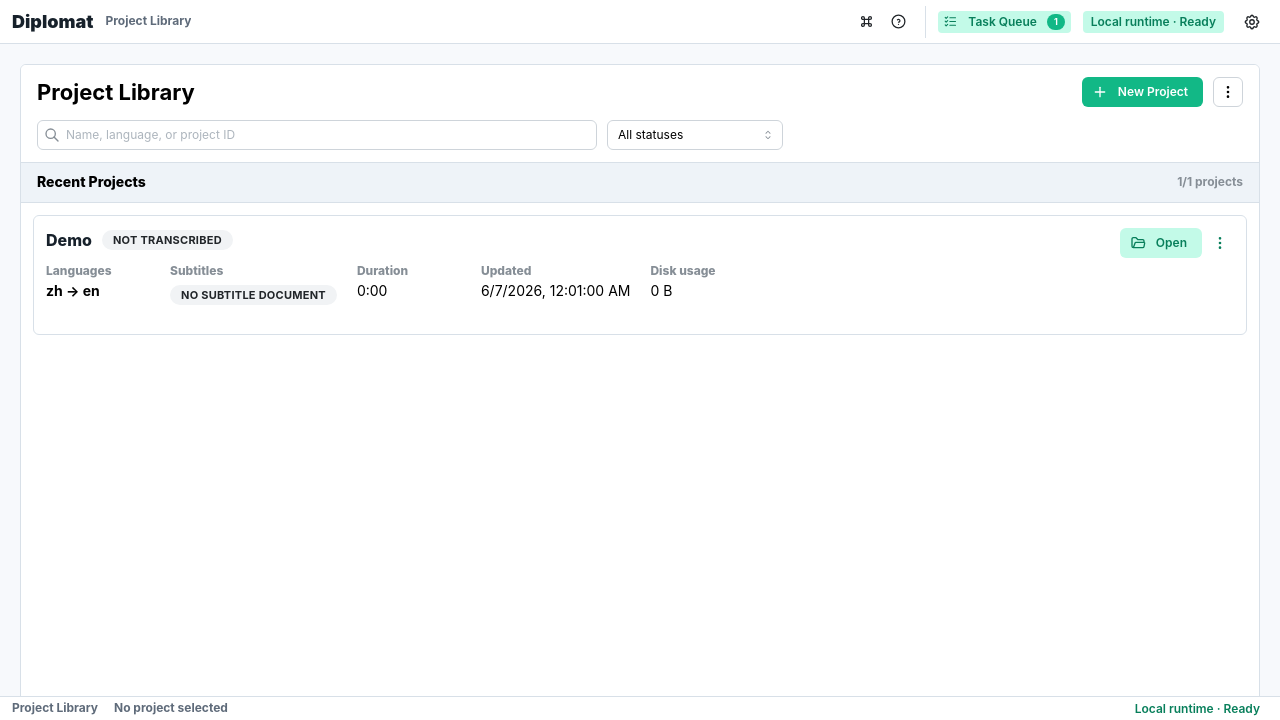
Test case: App › hides editor workspace navigation until an opened project has media
Click the button "Open" at (1161, 243), box [1120, 228, 1202, 258]
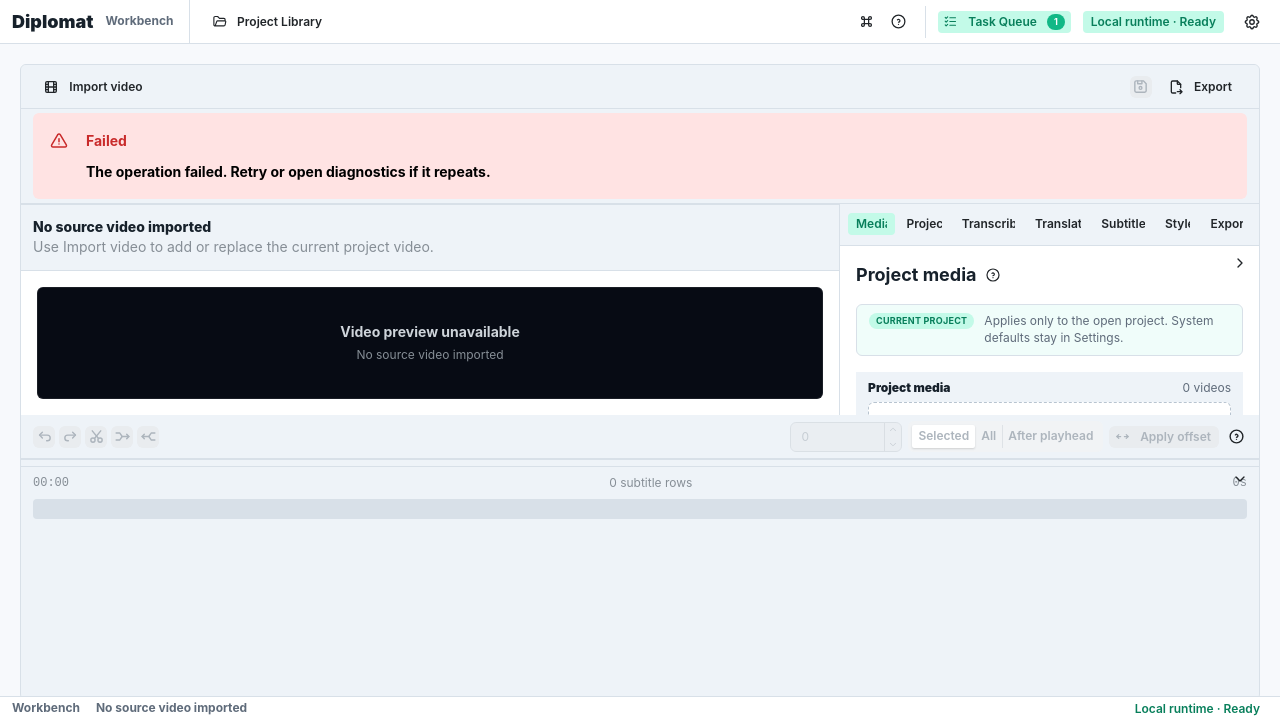
Expected: the element named "Workbench" is shown
Expected: the element with test id "workbench-preview-inspector-grid" is shown, [21, 204, 1259, 415]
Expected: the element with test id "timeline-dock" is shown, [21, 459, 1259, 699]
